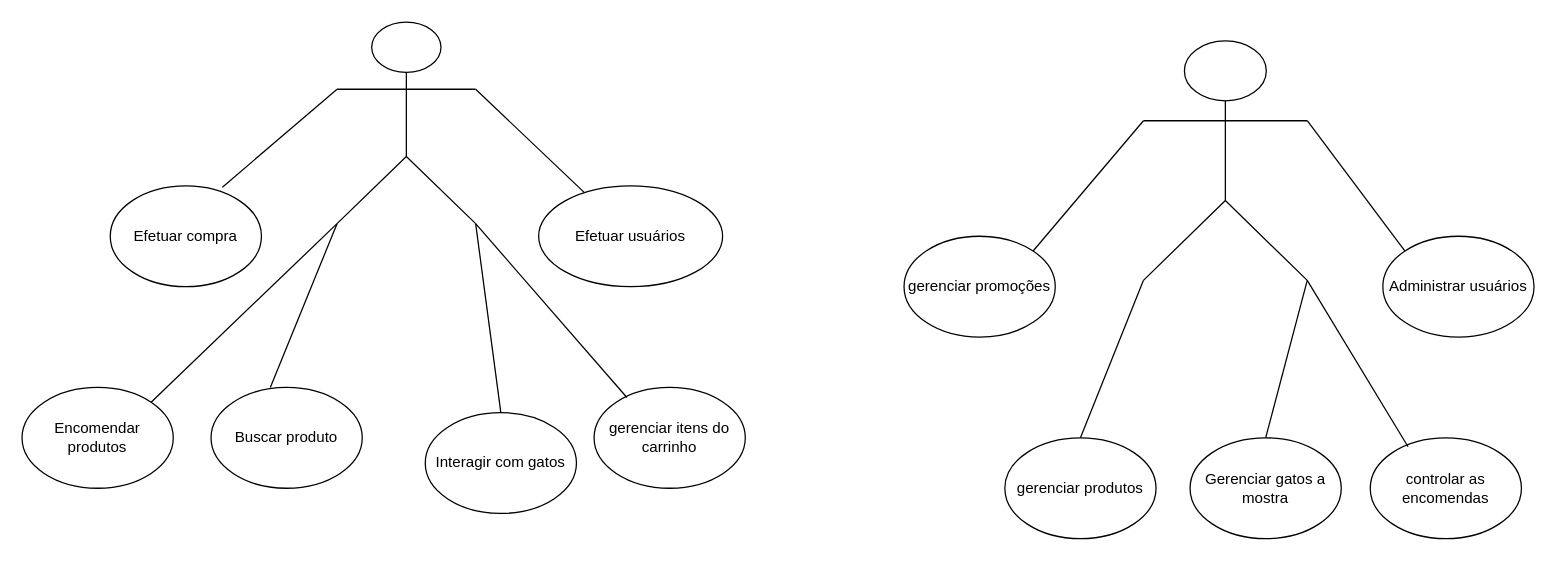
The diagram is 1556 pixels wide and 561 high, and some of its shapes have lost their labels. The shapes that lost their labels are listed below. From the top down, each one's box as (x1, y1, x2, y2) in pixels, then its label:
(336, 21, 476, 224): Cliente
(1142, 40, 1307, 280): administrador
